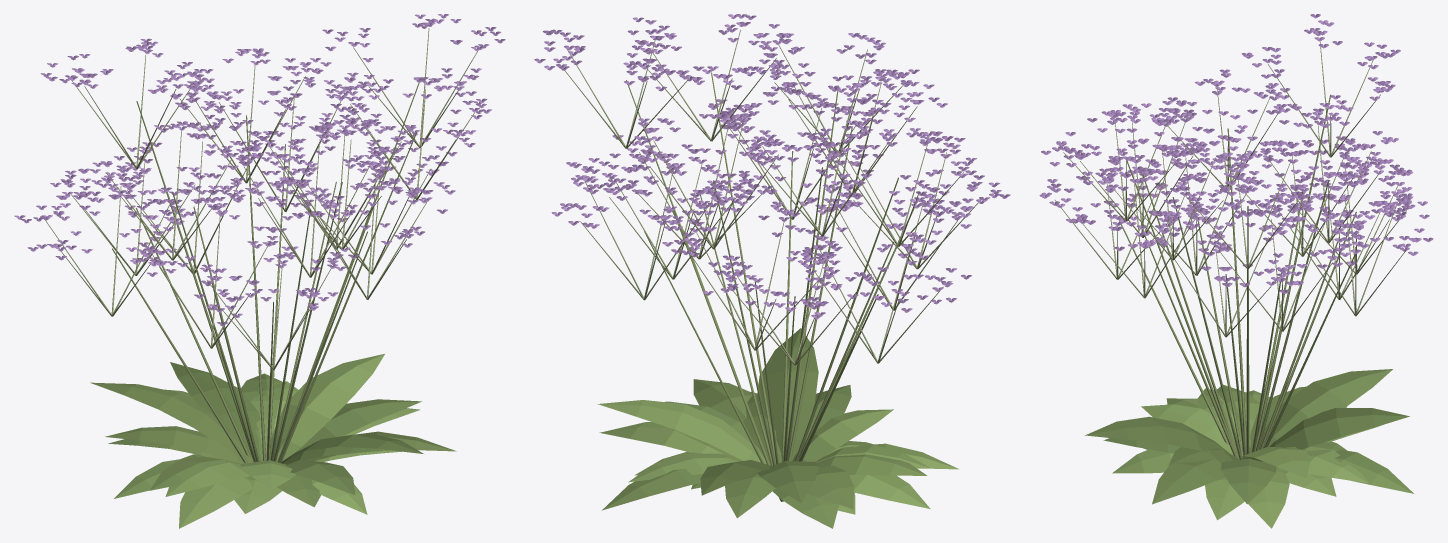
File: limonium-perezii.glb
3 renders of one model, left to right at view 1: azimuth 30°, elevation 25°; view 2: azimuth 150°, elevation 25°; view 3: azimuth 270°, elevation 25°, orthographic. The views are drawn at different scales.
Parts seen in each view (by area): view 1: Limonium perezii • basal rosette, Limonium perezii • branched violet sprays, Limonium perezii • flower stems; view 2: Limonium perezii • basal rosette, Limonium perezii • branched violet sprays, Limonium perezii • flower stems; view 3: Limonium perezii • basal rosette, Limonium perezii • branched violet sprays, Limonium perezii • flower stems.
Part boxes in pixels (box(x1,y1,x2,y2)): Limonium perezii • basal rosette: box(90, 354, 456, 528); Limonium perezii • branched violet sprays: box(14, 14, 505, 326); Limonium perezii • flower stems: box(45, 28, 477, 463); Limonium perezii • basal rosette: box(597, 328, 958, 528); Limonium perezii • branched violet sprays: box(534, 14, 1010, 319); Limonium perezii • flower stems: box(564, 29, 978, 501); Limonium perezii • basal rosette: box(1085, 369, 1413, 528); Limonium perezii • branched violet sprays: box(1039, 14, 1433, 293); Limonium perezii • flower stems: box(1055, 38, 1406, 459).
Bounding box in the file's own units: 0.816 × 0.7722 × 0.6868.
